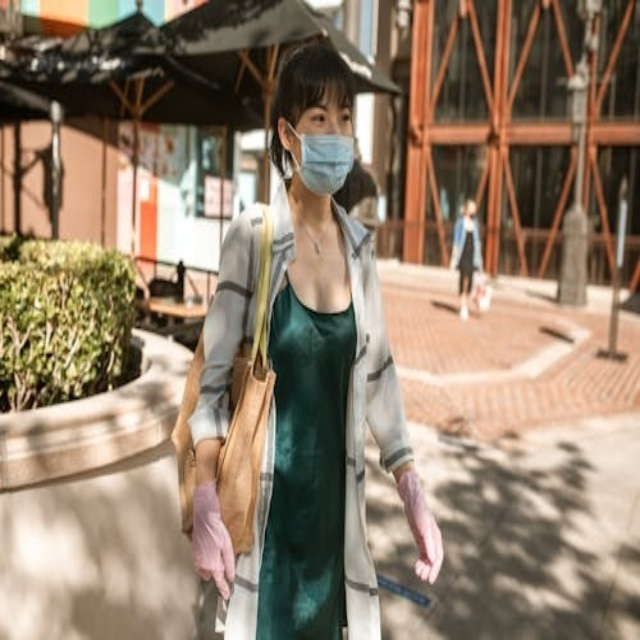Guantes: (397, 470, 443, 586), (191, 481, 235, 599)
Mascara: (288, 120, 354, 196)
Sin_gafas: (301, 100, 356, 138)
